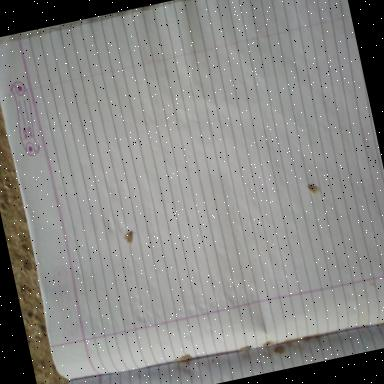pbw: (122, 231, 134, 244)
